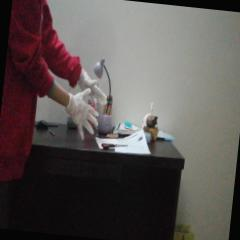gloved: (66, 88, 102, 140), (78, 70, 110, 106)
